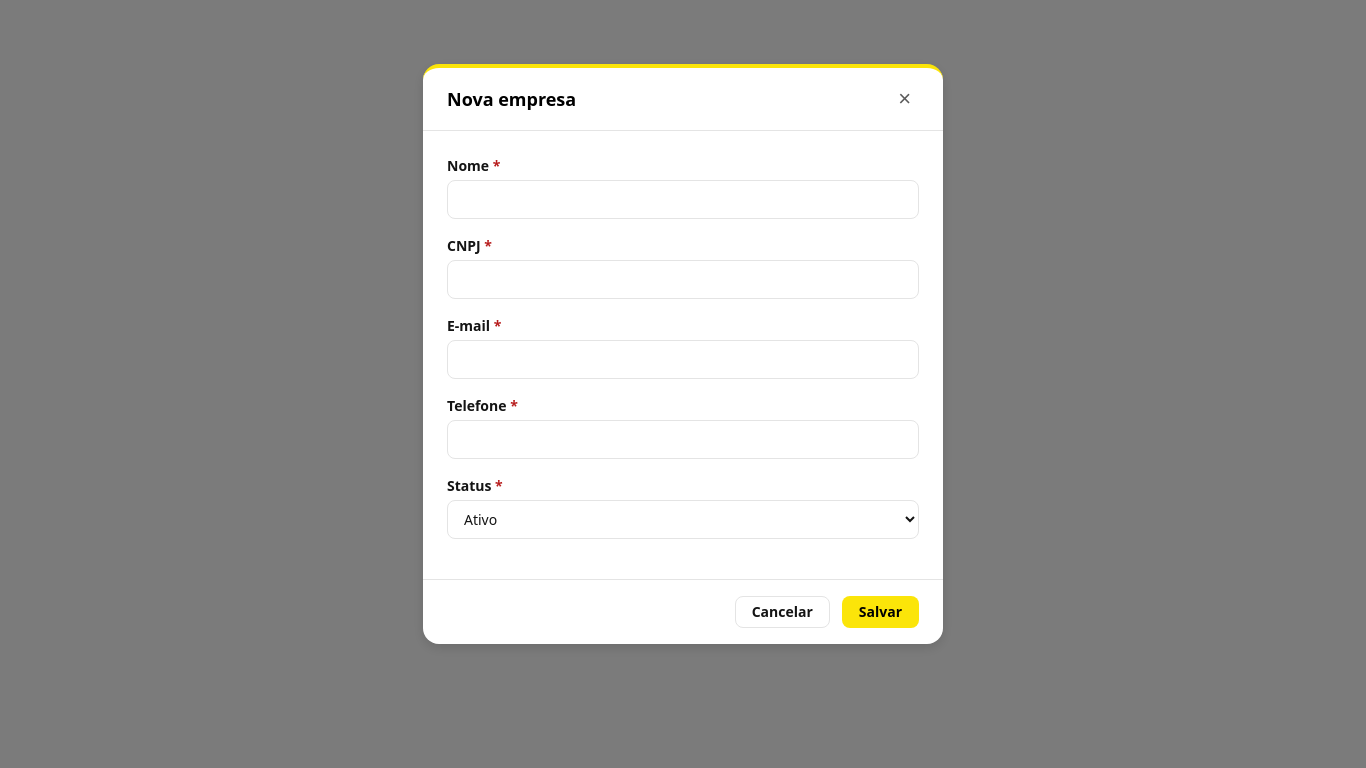
Test: EmpresaFormModal › mapeia o erro 422 do servidor para o campo (cnpj)
Type "Fornecedor Novo Ltda" into the field labelled "Nome" at (683,200), box [447, 180, 919, 219]
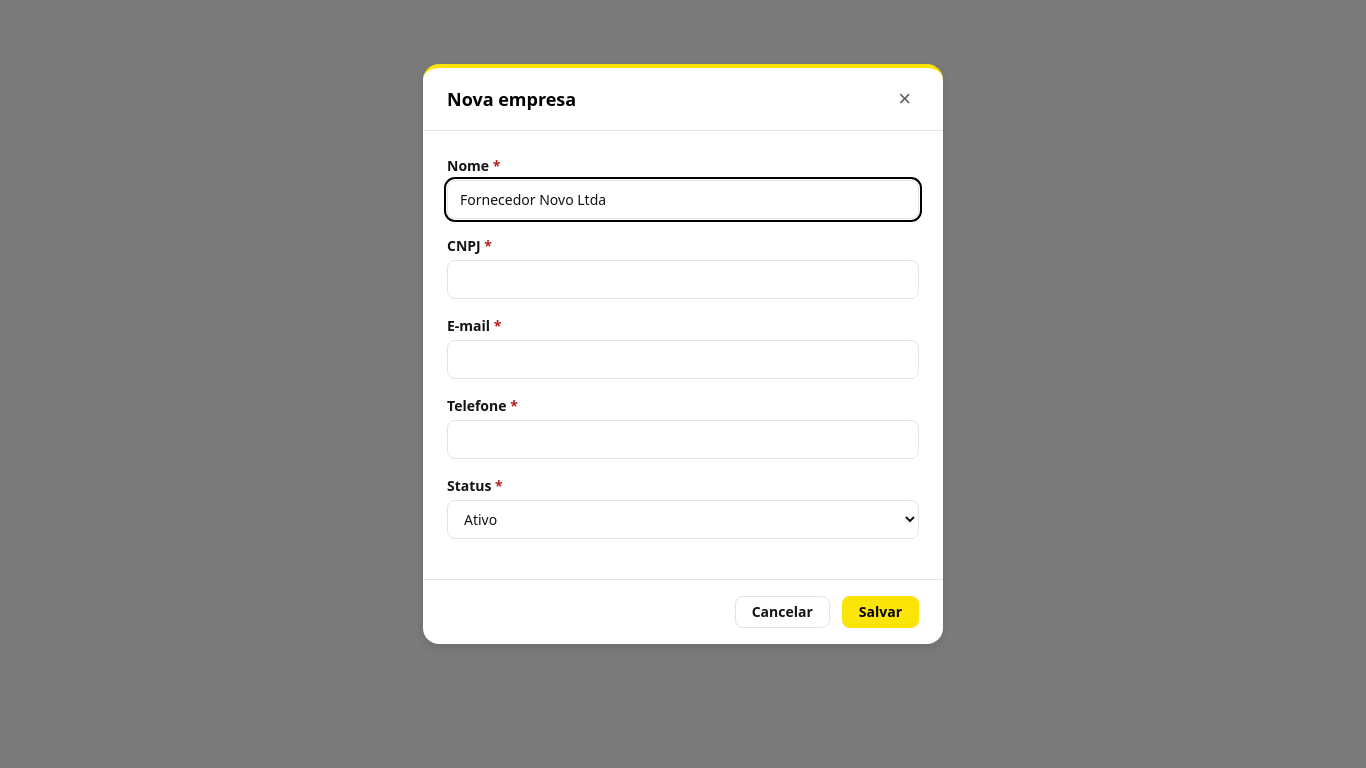
Type "12345678000199" into the field labelled "CNPJ" at (683,280), box [447, 260, 919, 299]
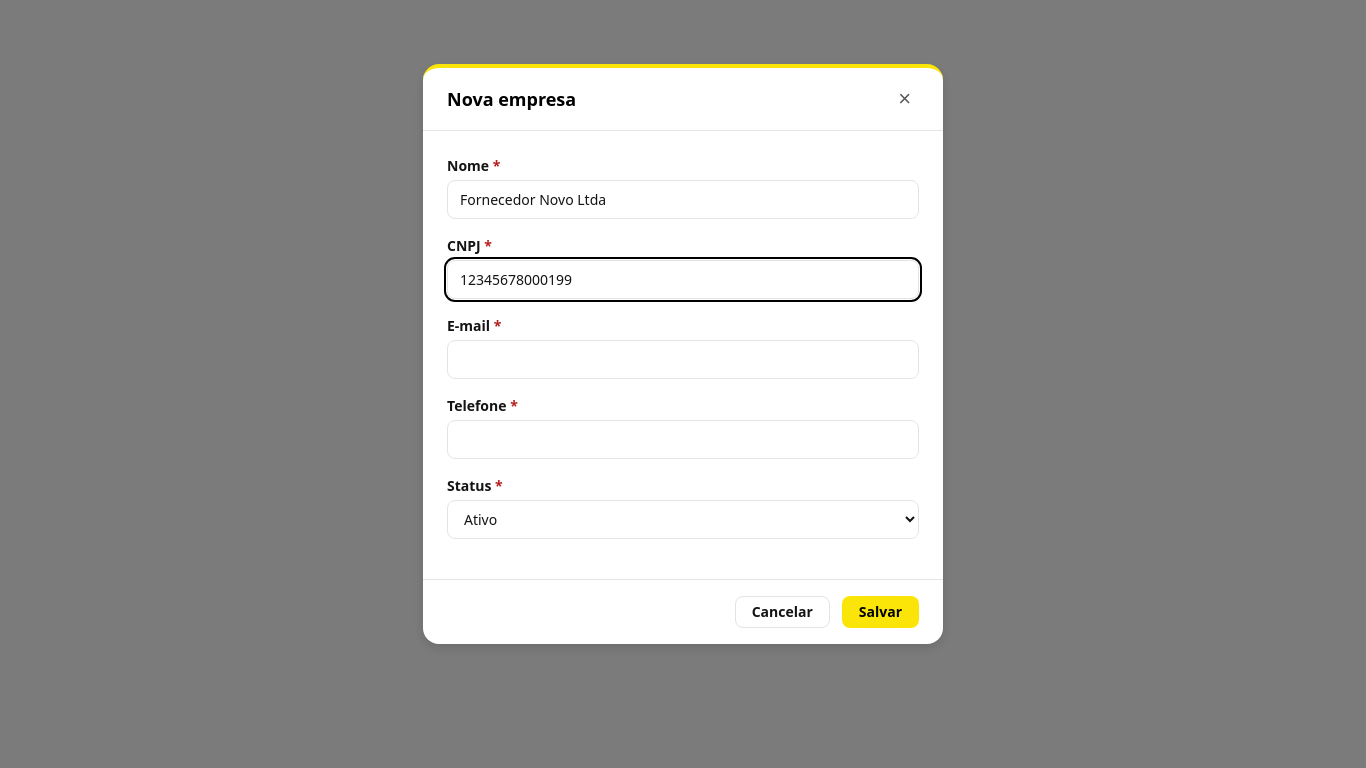
Type "novo@exemplo.com" into the field labelled "E-mail" at (683,360), box [447, 340, 919, 379]
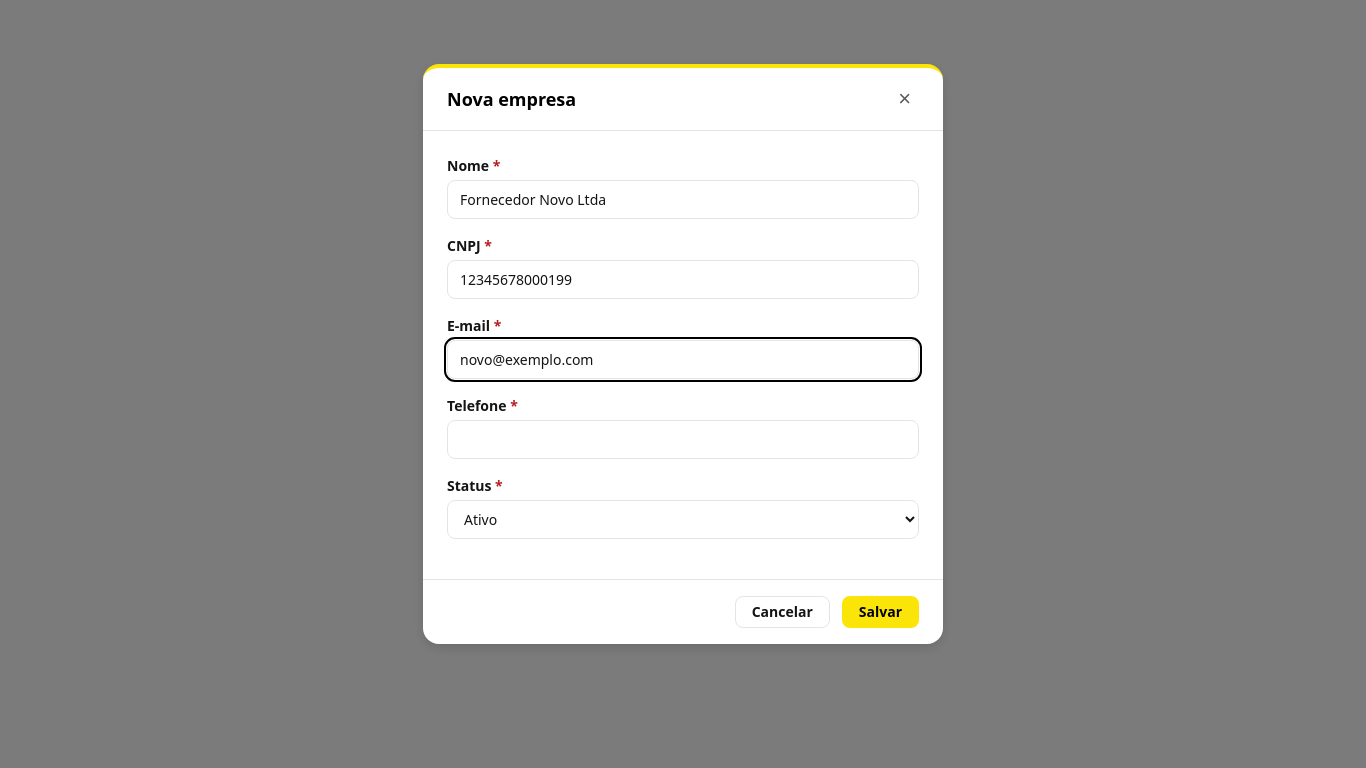
Type "11912345678" into the field labelled "Telefone" at (683,440), box [447, 420, 919, 459]
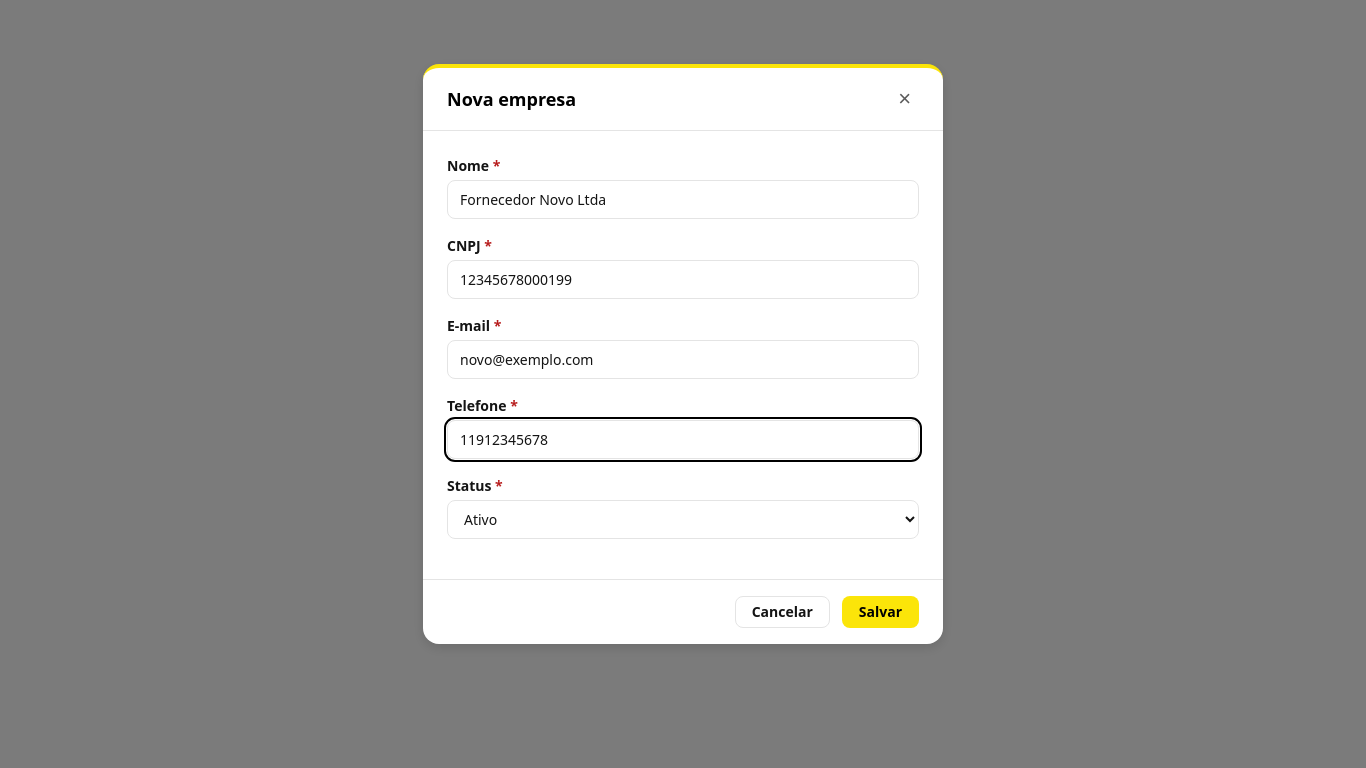
Click the button "Salvar" at (880,612), box [842, 596, 919, 628]
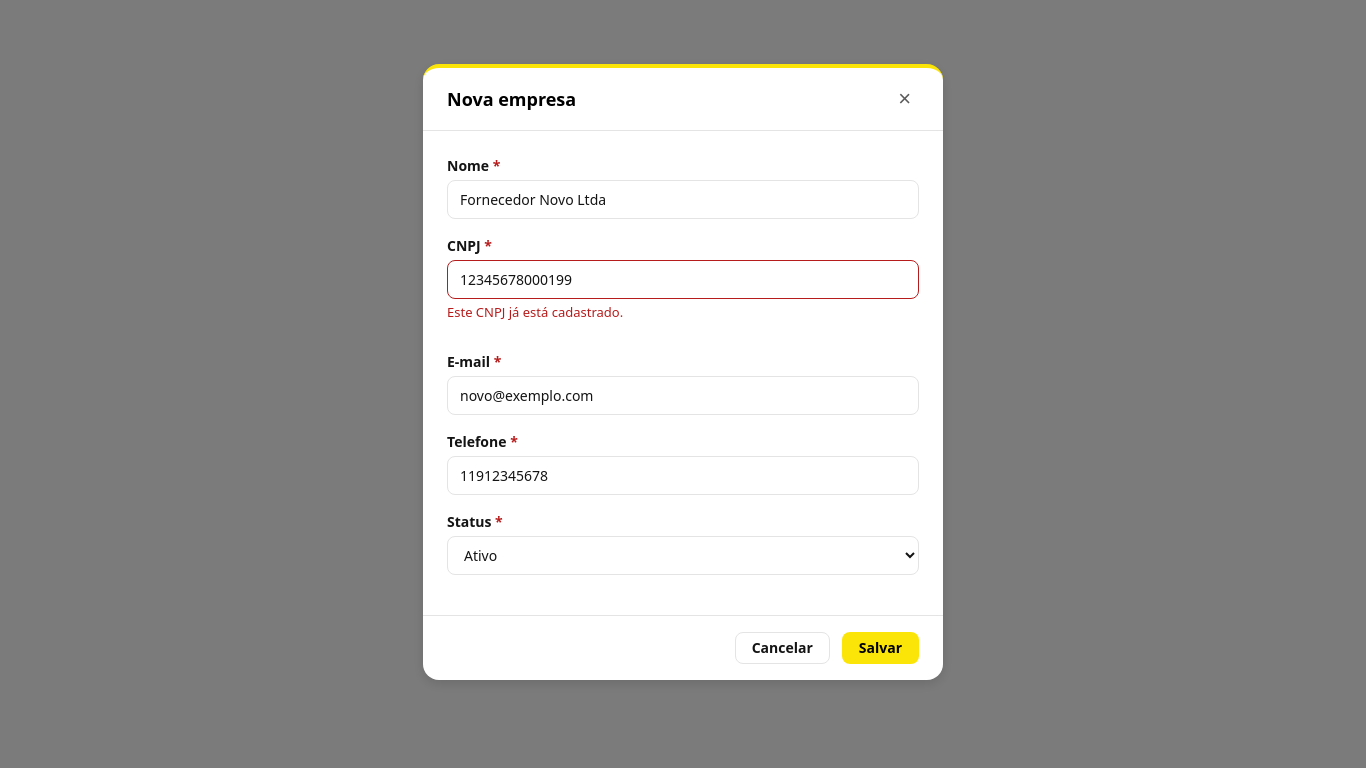
Expected: the text "Este CNPJ já está cadastrado." is shown, [447, 303, 623, 321]
